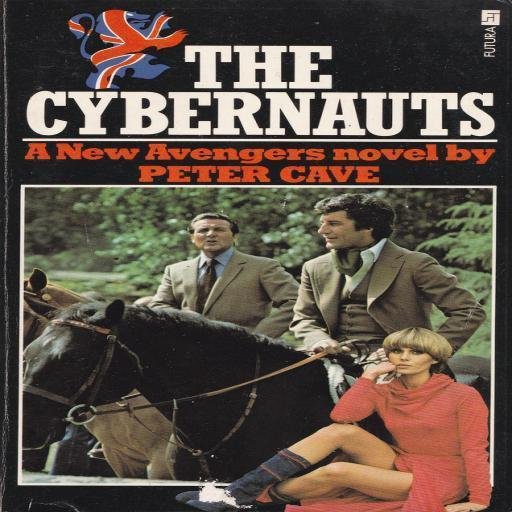horse: (18, 300, 482, 512), (12, 270, 212, 484)
